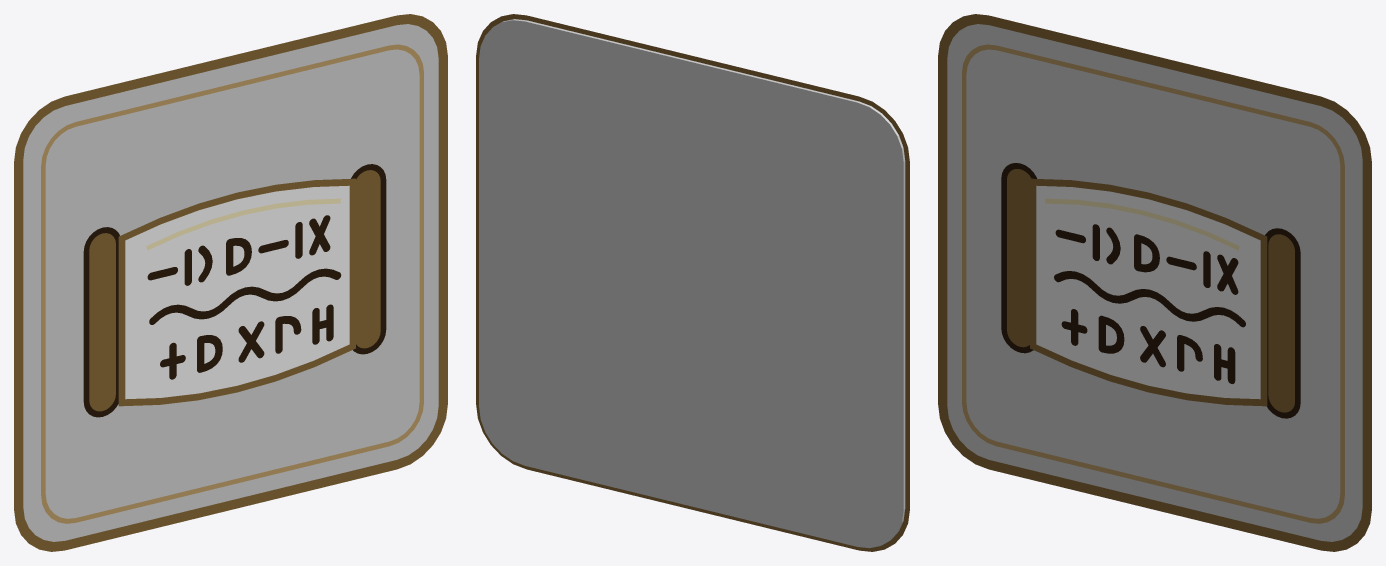
File: obj-svitok-yazykov.glb
The picture shows the model from 3 angles, left to right: view 1: azimuth 30°, elevation 25°; view 2: azimuth 150°, elevation 25°; view 3: azimuth 330°, elevation 25°; orthographic projection.
Visible parts, largest first — view 1: obj-svitok-yazykov; view 2: obj-svitok-yazykov; view 3: obj-svitok-yazykov.
Part boxes in pixels (left/top/right/bottom): obj-svitok-yazykov: left=14, top=14, right=447, bottom=551; obj-svitok-yazykov: left=476, top=14, right=909, bottom=551; obj-svitok-yazykov: left=938, top=14, right=1371, bottom=551.
Bounding box in the file's own units: 0.3917 × 0.3917 × 0.0226.
